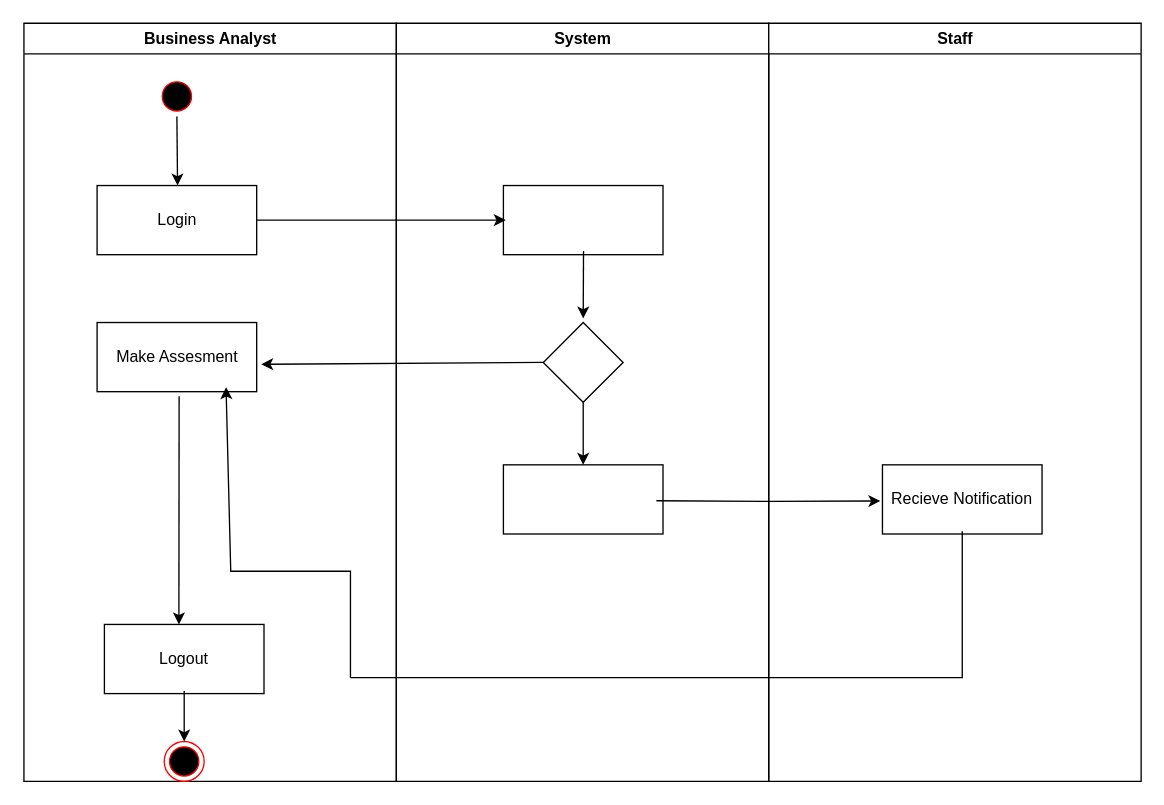
The diagram is 1164 pixels wide and 805 high, and some of its shapes have lost their labels. The centre of each missing label's shape, as x and y in pixels:
Check Staff: point 582,361
Display Inventory Summary Graphs/ Charts: point 582,219
Edit Staff Details: point 582,499
